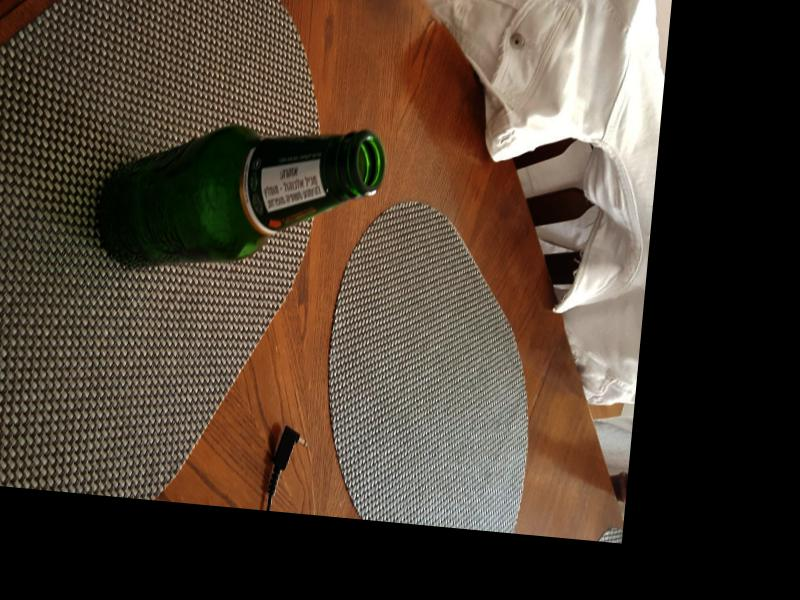Beer: (93, 118, 383, 290)
